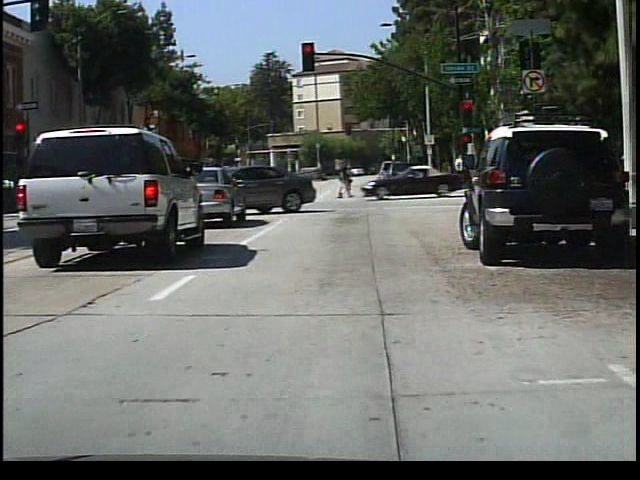person: (334, 158, 357, 200), (454, 150, 473, 188)
